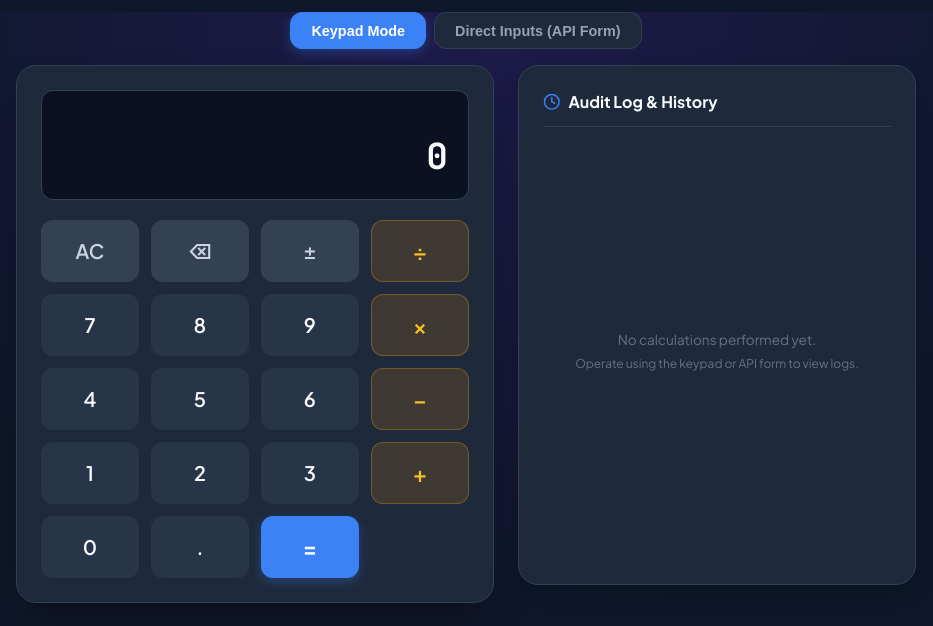
Test: Calculator Component › performs addition calculation flow successfully
#  Click 7
What coordinates should you click on to do the following:
click the button with test id "btn-digit-7"
I would click on:
 (90, 325)
Its box is [41, 294, 139, 356].
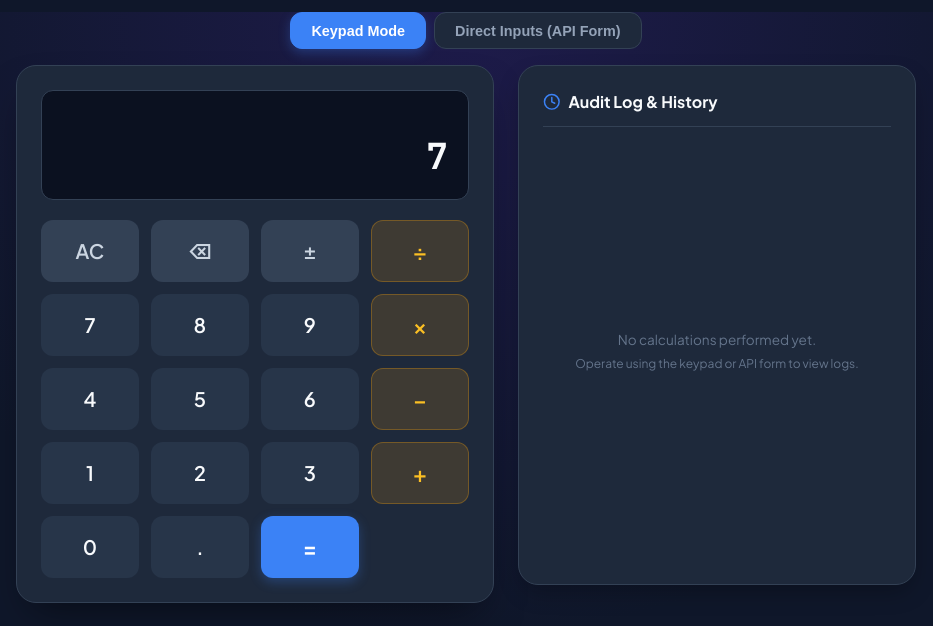
Expected: the text with test id "display-value" reads "7", [426, 132, 448, 180]
#  Click +
What coordinates should you click on to do the following:
click the button with test id "btn-op-add"
I would click on:
 (420, 473)
Its box is [371, 442, 469, 504].
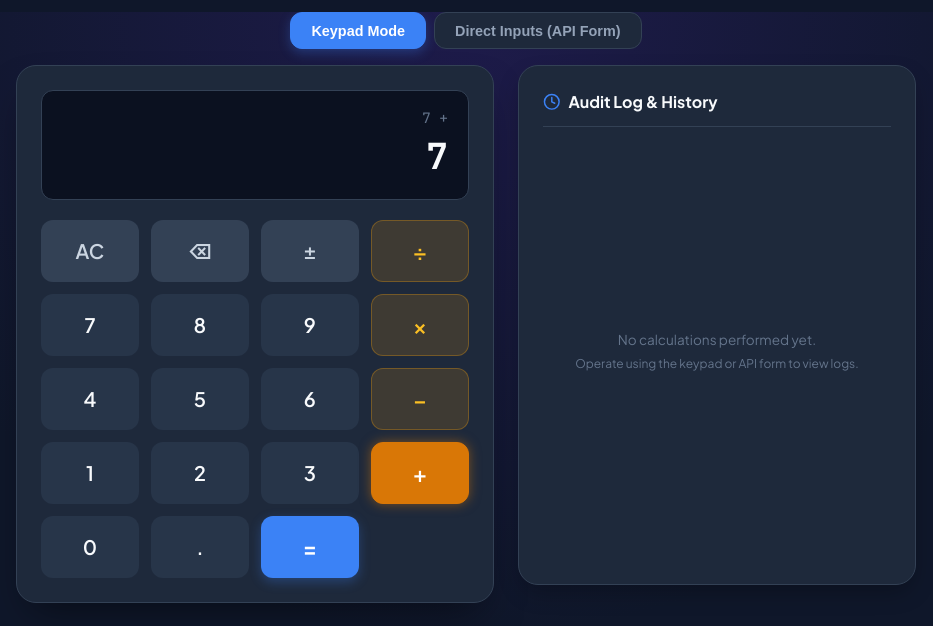
#  Click 3
What coordinates should you click on to do the following:
click the button with test id "btn-digit-3"
I would click on:
 (310, 473)
Its box is [261, 442, 359, 504].
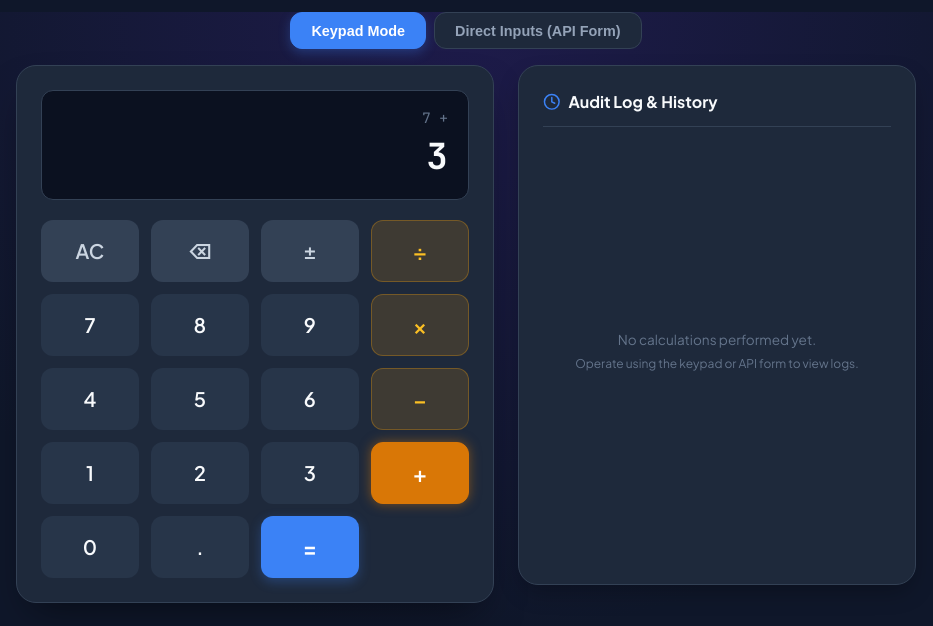
Expected: the text with test id "display-value" reads "3", [426, 132, 448, 180]
What coordinates should you click on to do the following:
click the button with test id "btn-equals"
I would click on:
 (310, 547)
Its box is [261, 516, 359, 578].
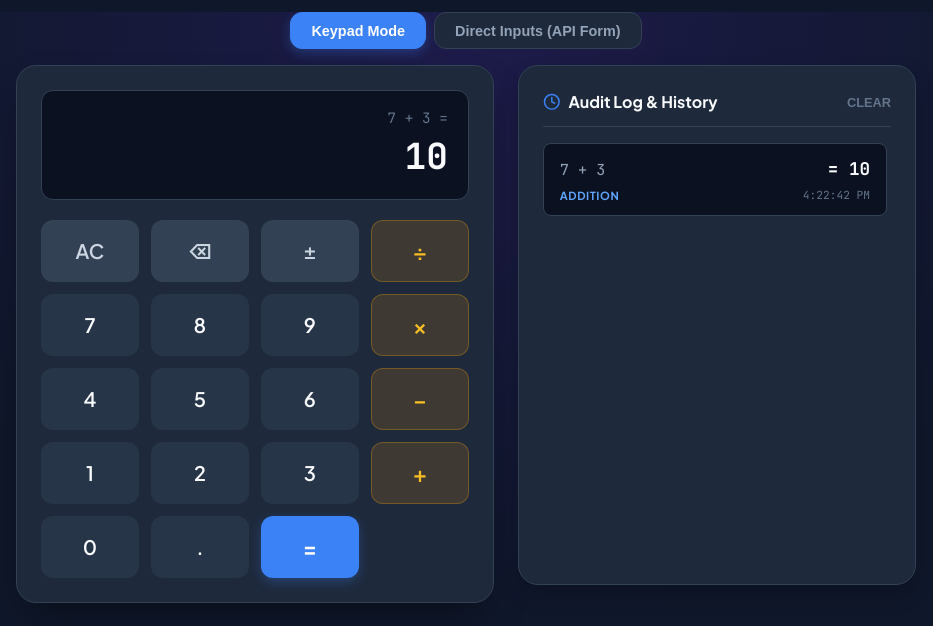
Expected: the text with test id "display-value" reads "10", [405, 132, 448, 180]
Expected: the text "7 + 3" is shown, [560, 159, 605, 182]
